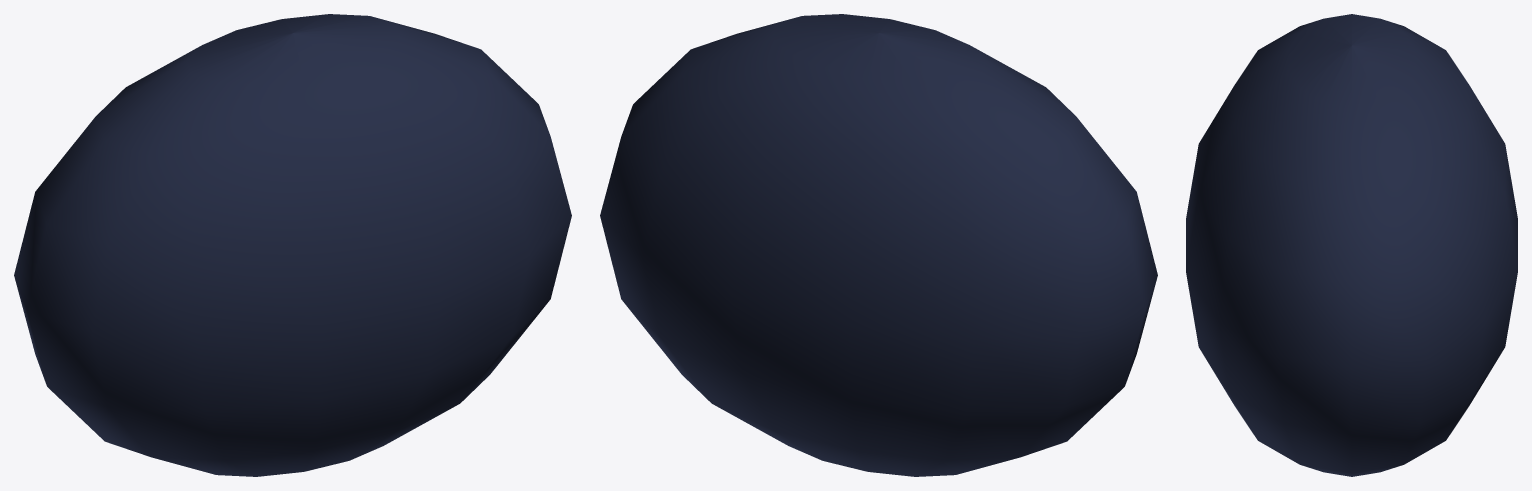
Rendered from hips.obj.
3 views of the same model, side by side, from view 1: azimuth 30°, elevation 25°; view 2: azimuth 150°, elevation 25°; view 3: azimuth 270°, elevation 25° (orthographic). The views are drawn at different scales.
Parts seen in each view (by area): view 1: hips; view 2: hips; view 3: hips.
Boxes of the visible parts, <box> form: hips: <box>14,14,571,476</box>; hips: <box>600,14,1157,476</box>; hips: <box>1186,14,1517,476</box>.
Size of the model in its own units: 0.3882 by 0.296 by 0.2226.
